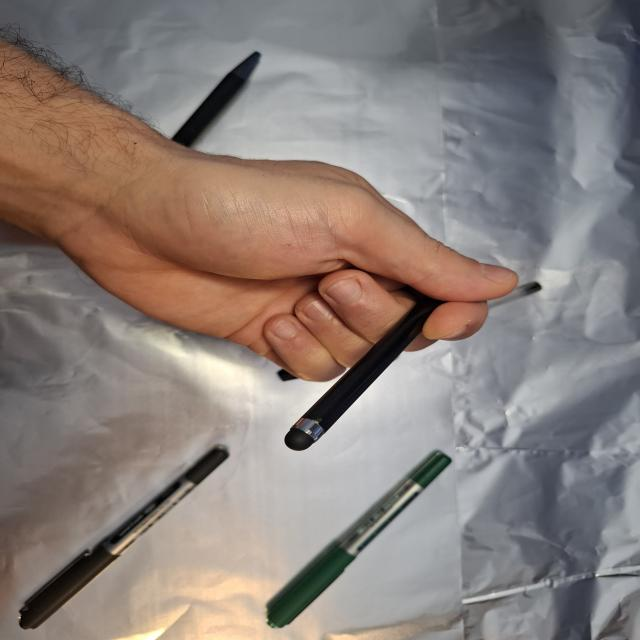glove_off: (52, 140, 520, 384)
